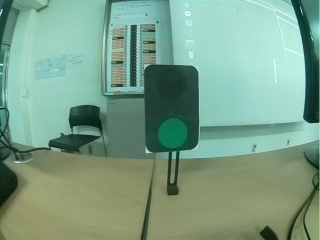green_light: (144, 64, 199, 151)
